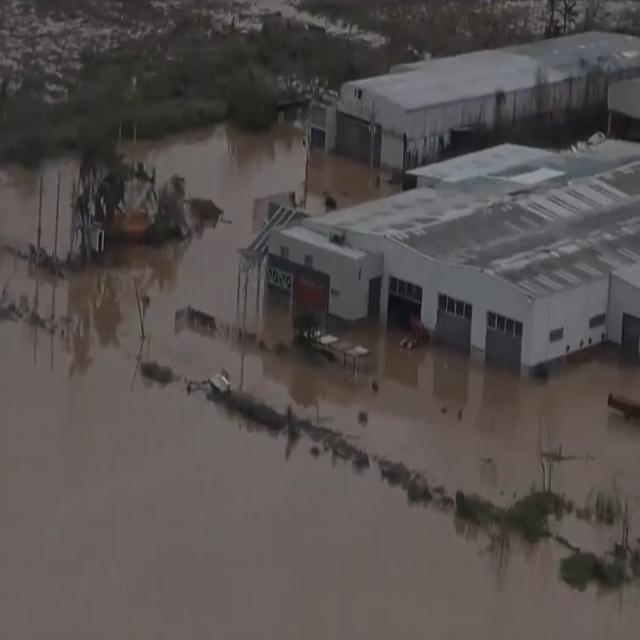flood: (0, 133, 640, 640), (0, 157, 81, 257), (123, 243, 210, 303)
house: (309, 36, 640, 182), (265, 211, 404, 342)
